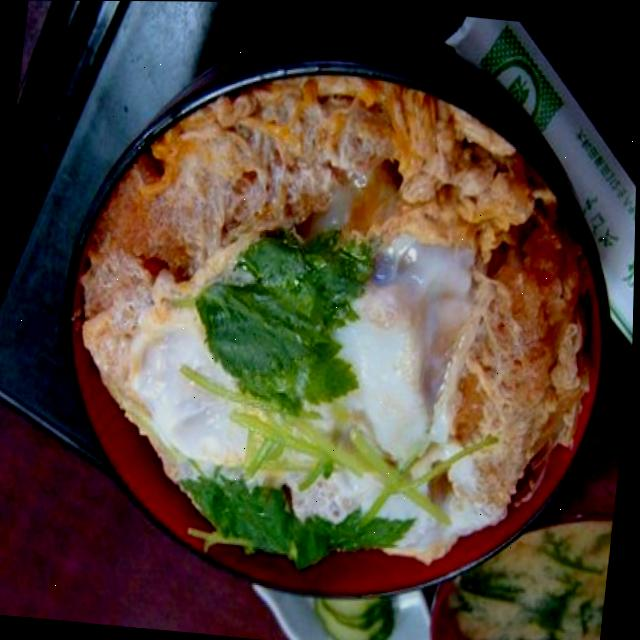汤锅炖物: (416, 424, 623, 640)
米饭主食: (32, 0, 640, 639)
